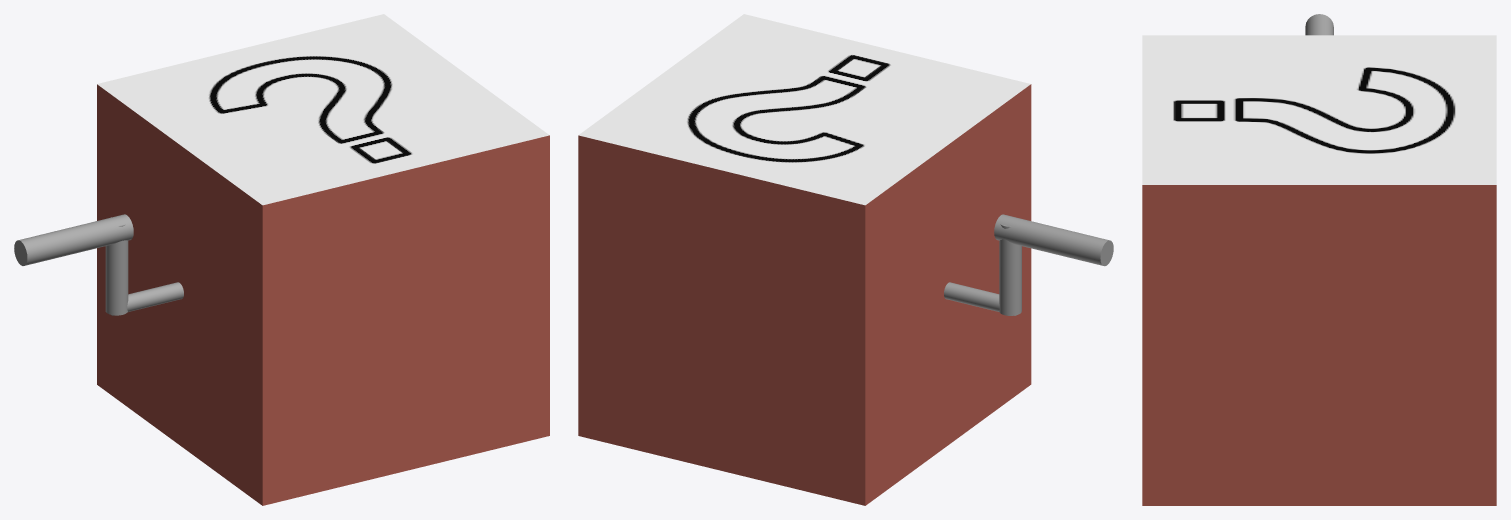
Rendered from Jack In the box.fbx.
3 renders of one model, left to right at view 1: azimuth 30°, elevation 25°; view 2: azimuth 150°, elevation 25°; view 3: azimuth 270°, elevation 25°, orthographic. The views are drawn at different scales.
Visible parts, largest first — view 1: Jack_in_the_box; view 2: Jack_in_the_box; view 3: Jack_in_the_box.
Boxes of the visible parts, x1,y1,x2,y2 form: Jack_in_the_box: (14,14,549,505); Jack_in_the_box: (578,14,1113,505); Jack_in_the_box: (1142,14,1496,505).
Size of the model in its own units: 13.87 by 8.93 by 8.93.
3 materials, 1 textured.
